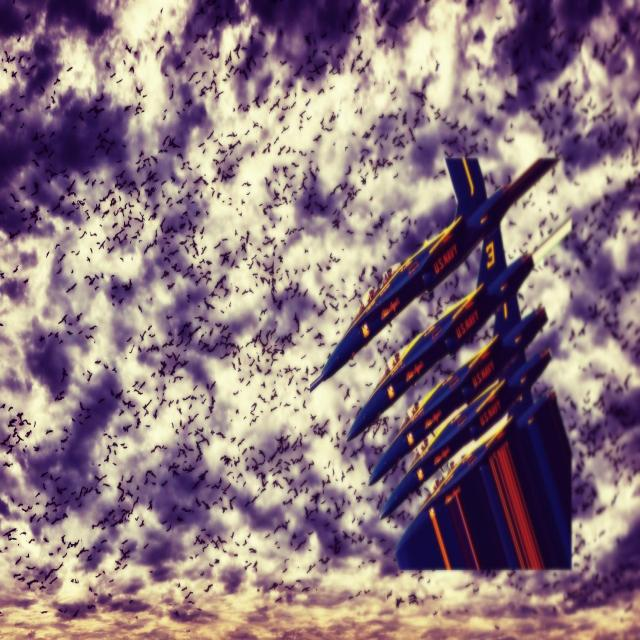airplane: (308, 153, 561, 393), (393, 385, 572, 572)
